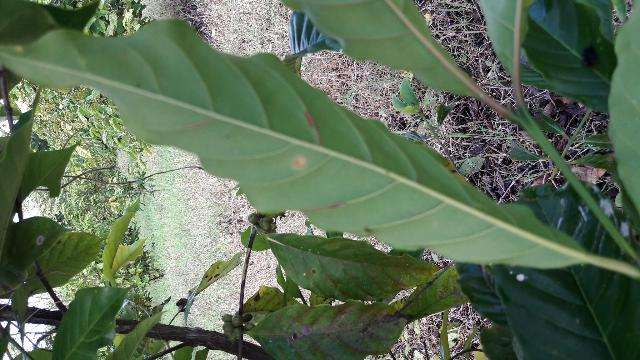healthy: (1, 22, 585, 266)
